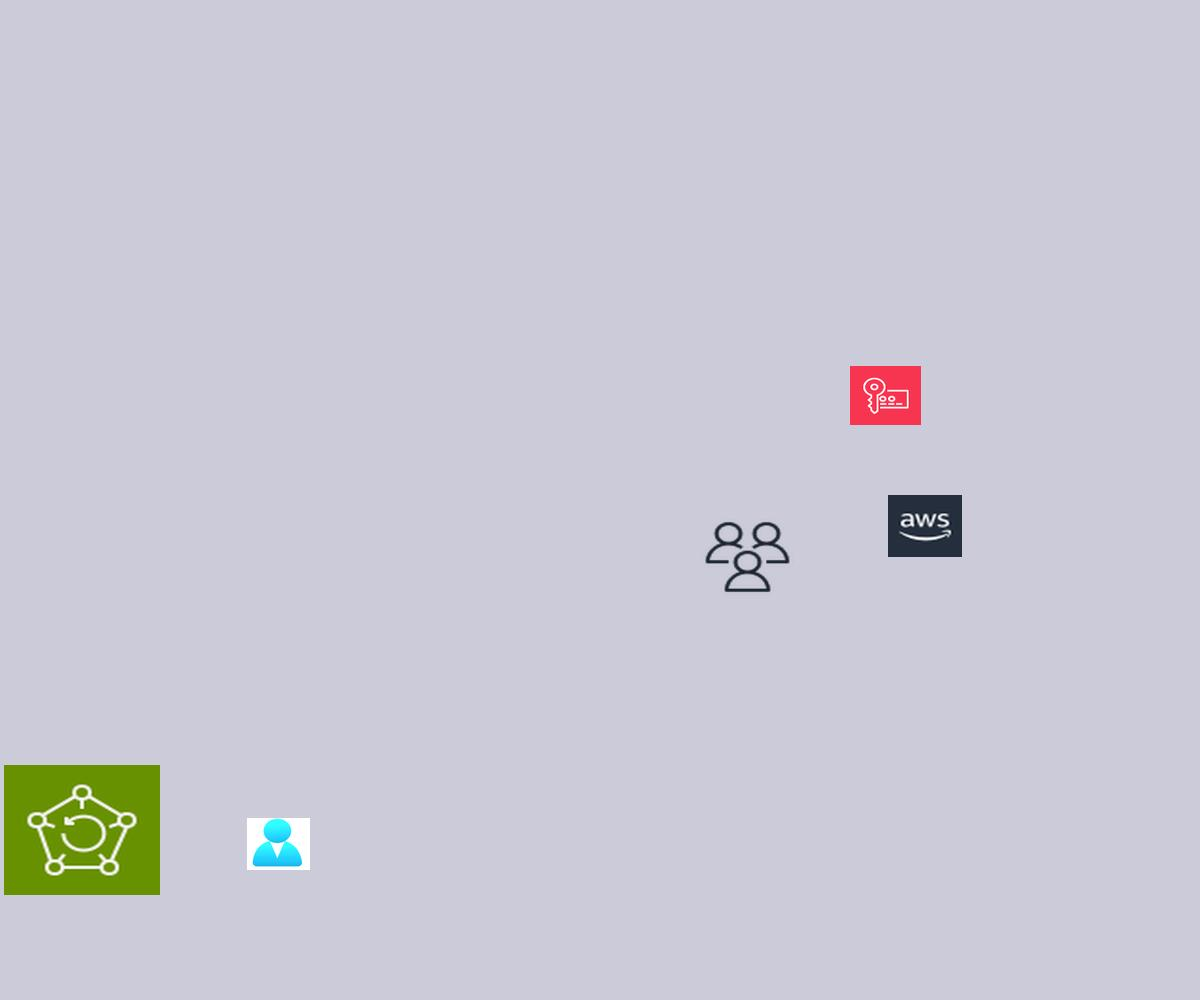AWS-Backup: (4, 765, 160, 895)
AWS-Cloud-logo: (888, 495, 962, 557)
AWS-Key-Management-Service: (850, 366, 921, 425)
AWS-Res_Users: (702, 519, 793, 595)
Azure_users: (247, 818, 310, 870)
